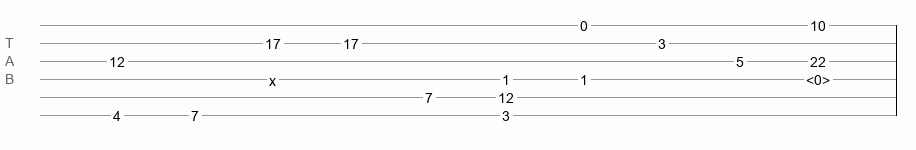0: (580, 18, 588, 28)
1: (502, 72, 510, 82), (580, 72, 588, 82)
10: (810, 18, 826, 28)
12: (109, 54, 125, 64), (498, 90, 514, 100)
17: (265, 36, 281, 46), (343, 36, 359, 46)
22: (810, 54, 826, 64)
3: (502, 108, 510, 118), (658, 36, 666, 46)
4: (113, 108, 121, 118)
5: (736, 54, 744, 64)
7: (191, 108, 199, 118), (425, 90, 433, 100)
harmonic: (806, 72, 830, 82)
x: (269, 73, 276, 81)
